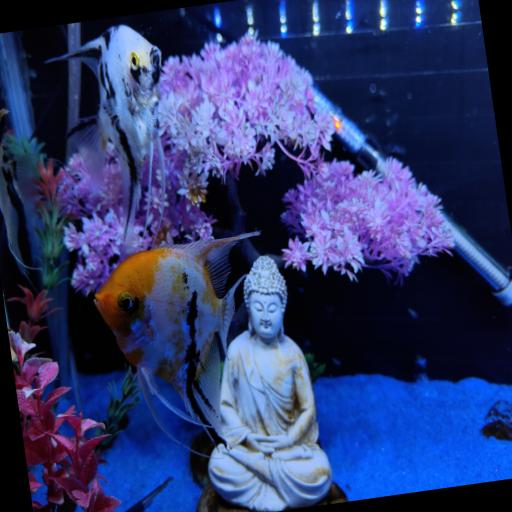Fish: (94, 232, 258, 436), (47, 25, 164, 253), (0, 109, 29, 280)
